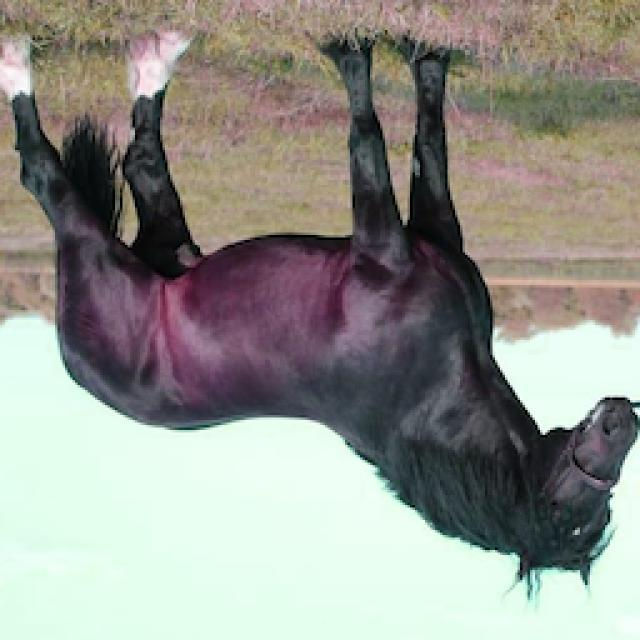Horse: (0, 22, 638, 608)
